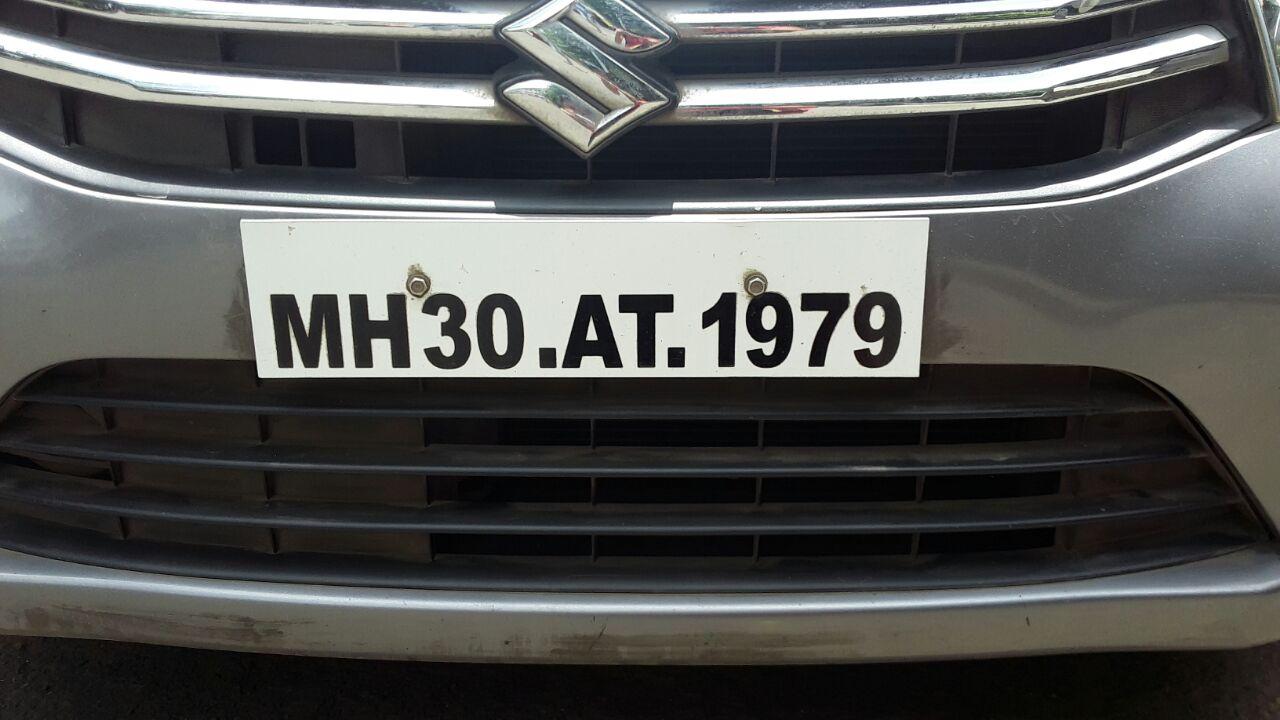licenseplate: (235, 209, 941, 383)
